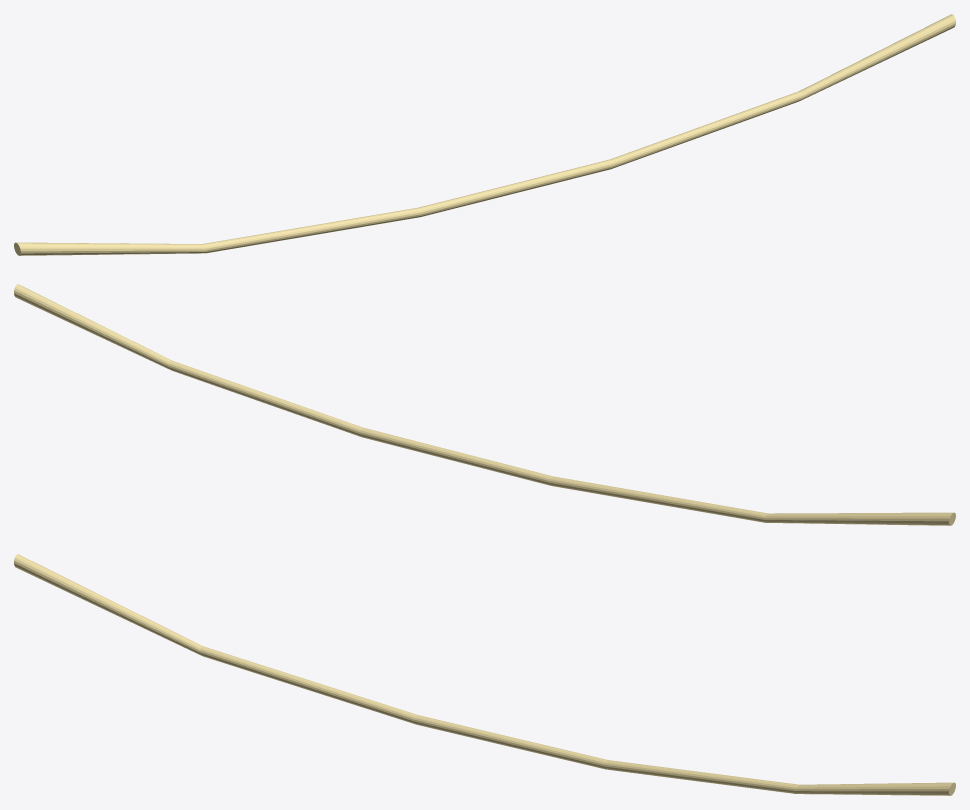
File: Roap.fbx
3 views of the same model, one above another, from view 1: azimuth 30°, elevation 25°; view 2: azimuth 150°, elevation 25°; view 3: azimuth 330°, elevation 25° (orthographic).
Parts seen in each view (by area): view 1: Roap; view 2: Roap; view 3: Roap.
Boxes of the visible parts, <box> form: Roap: <box>14,14,955,255</box>; Roap: <box>14,284,955,525</box>; Roap: <box>14,554,955,795</box>.
Bounding box in the file's own units: 250 × 18.16 × 3.35.
